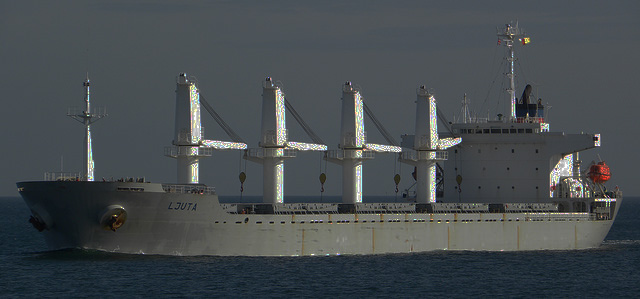bulk carrier: (15, 28, 623, 257)
